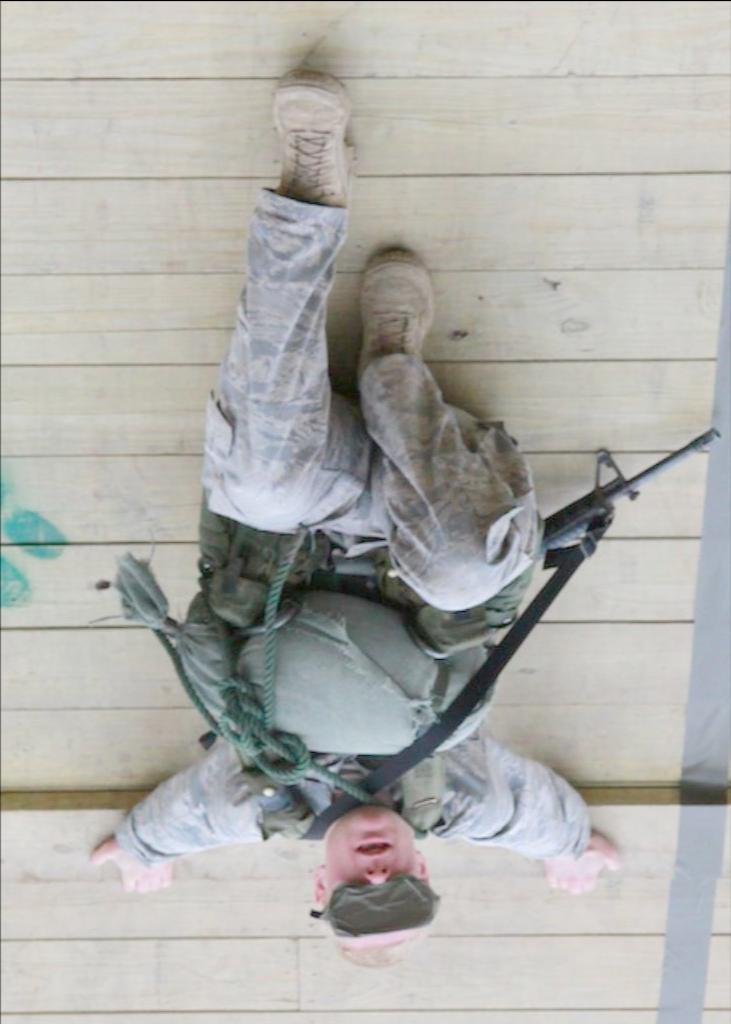gun: (513, 421, 731, 568)
